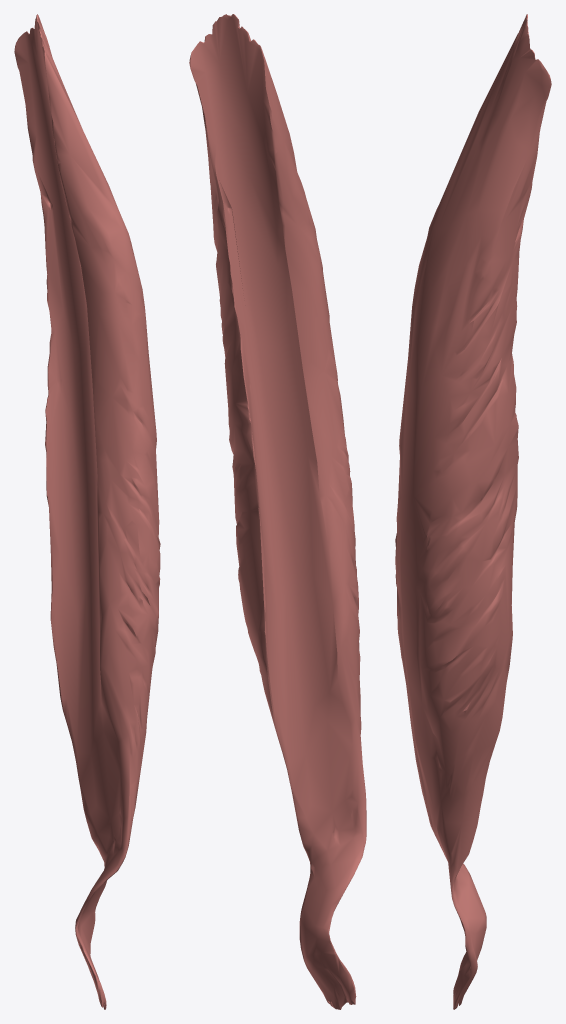
The model's file is fma38935_fj1441m.glb.
3 renders of one model, left to right at view 1: azimuth 90°, elevation 25°; view 2: azimuth 150°, elevation 25°; view 3: azimuth 270°, elevation 25°, orthographic. The views are drawn at different scales.
Parts seen in each view (by area): view 1: FMA38935_FJ1441M; view 2: FMA38935_FJ1441M; view 3: FMA38935_FJ1441M.
Part boxes in pixels (left/top/right/bottom): FMA38935_FJ1441M: left=14, top=14, right=160, bottom=1009; FMA38935_FJ1441M: left=189, top=14, right=366, bottom=1009; FMA38935_FJ1441M: left=395, top=14, right=551, bottom=1009.
Bounding box in the file's own units: 0.0569 × 0.4273 × 0.0589.
